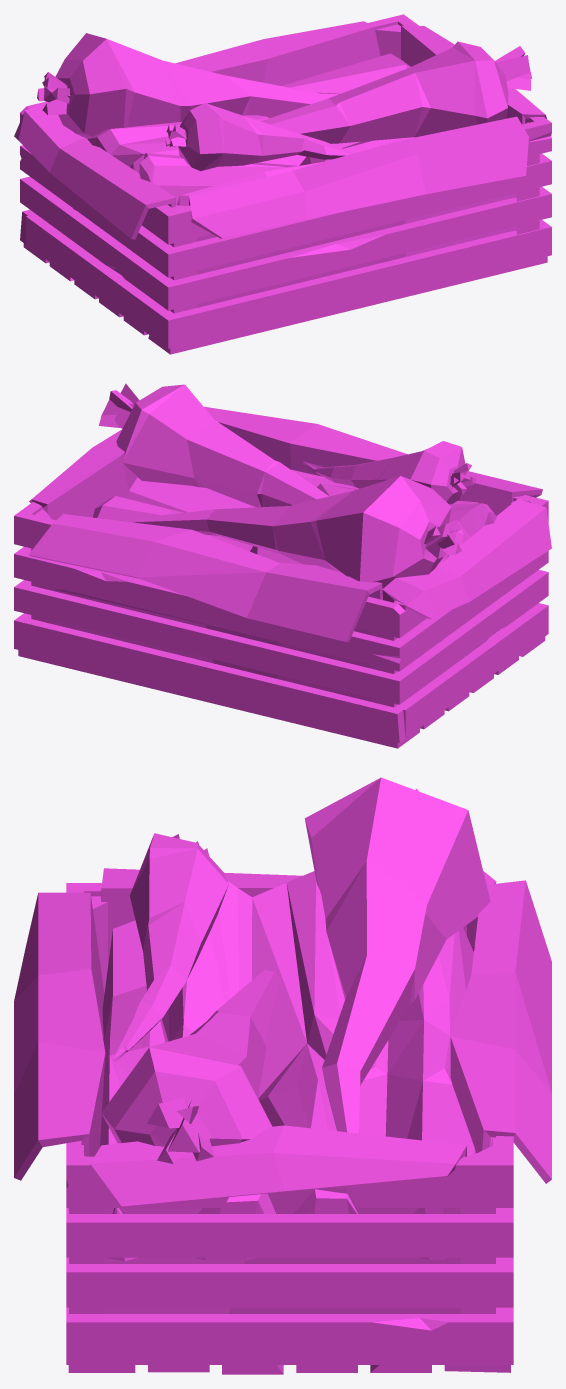
The model's file is SM_Crate_Wood_Medium_Paper_Parsnips.fbx.
The picture shows the model from 3 angles, top to bottom: view 1: azimuth 30°, elevation 25°; view 2: azimuth 150°, elevation 25°; view 3: azimuth 270°, elevation 25°; orthographic projection. The views are drawn at different scales.
Parts seen in each view (by area): view 1: SM_Crate_Wood_Medium_Paper_Parsnips; view 2: SM_Crate_Wood_Medium_Paper_Parsnips; view 3: SM_Crate_Wood_Medium_Paper_Parsnips.
Boxes of the visible parts, box(x1,y1,x2,y2) form: SM_Crate_Wood_Medium_Paper_Parsnips: box(14, 14, 551, 354); SM_Crate_Wood_Medium_Paper_Parsnips: box(14, 383, 551, 748); SM_Crate_Wood_Medium_Paper_Parsnips: box(14, 777, 551, 1374).
Size of the model in its own units: 0.6673 by 0.348 by 0.4887.
